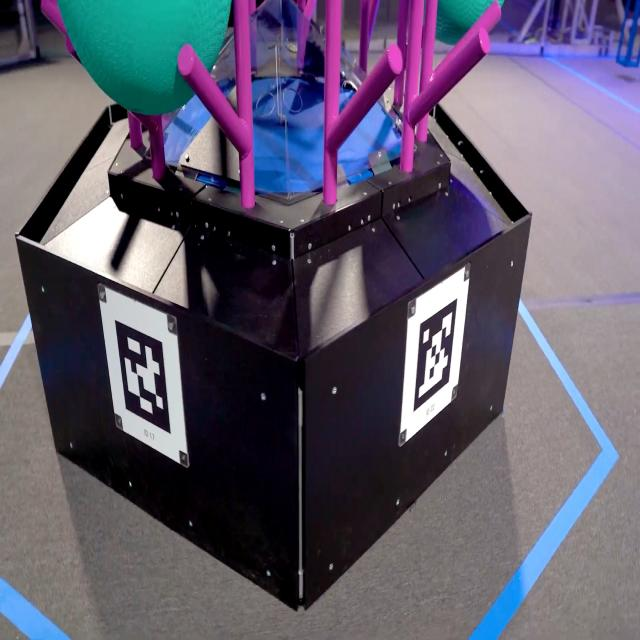Algae: (56, 0, 232, 117), (434, 0, 504, 47)
